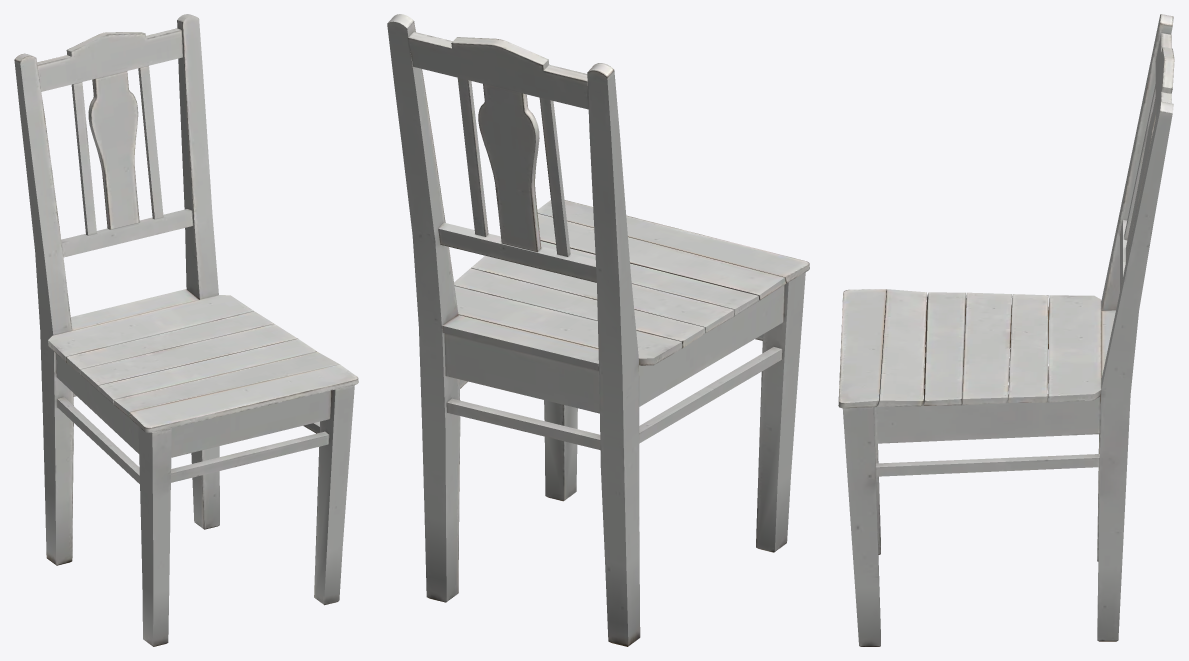
Rendered from m_painted_wooden_chair_01.glb.
3 renders of one model, left to right at view 1: azimuth 30°, elevation 25°; view 2: azimuth 150°, elevation 25°; view 3: azimuth 270°, elevation 25°, orthographic. The views are drawn at different scales.
Visible parts, largest first — view 1: painted_wooden_chair_01; view 2: painted_wooden_chair_01; view 3: painted_wooden_chair_01.
Boxes of the visible parts, bbox=[...] form: painted_wooden_chair_01: bbox=[14, 14, 358, 646]; painted_wooden_chair_01: bbox=[387, 14, 809, 646]; painted_wooden_chair_01: bbox=[838, 14, 1174, 646].
Size of the model in its own units: 0.4317 by 0.9565 by 0.5398.
1 material, 1 textured.
